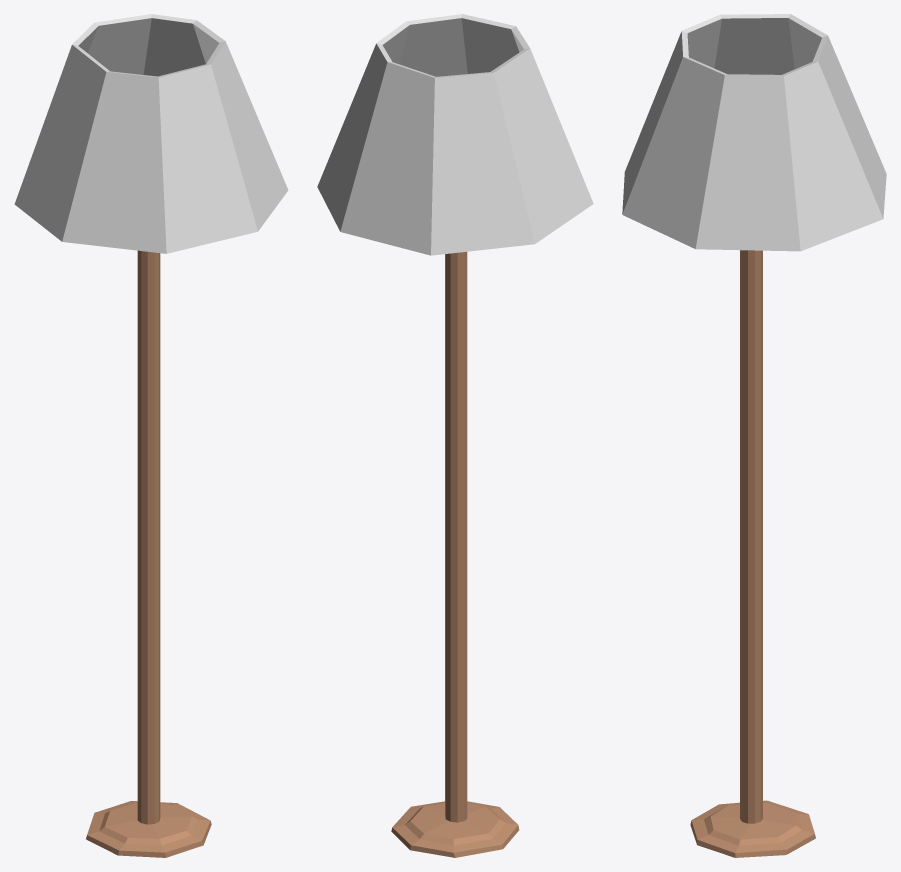
Rendered from Lamp_231109.glb.
The picture shows the model from 3 angles, left to right: view 1: azimuth 30°, elevation 25°; view 2: azimuth 150°, elevation 25°; view 3: azimuth 270°, elevation 25°; orthographic projection.
Visible parts, largest first — view 1: Bedroom_2_Lamp; view 2: Bedroom_2_Lamp; view 3: Bedroom_2_Lamp.
Boxes of the visible parts, <box> form: Bedroom_2_Lamp: <box>14,14,288,857</box>; Bedroom_2_Lamp: <box>317,14,593,857</box>; Bedroom_2_Lamp: <box>622,14,886,857</box>.
Size of the model in its own units: 0.8523 by 2.82 by 0.8571.
Materials: 1 (1 with a texture image).
